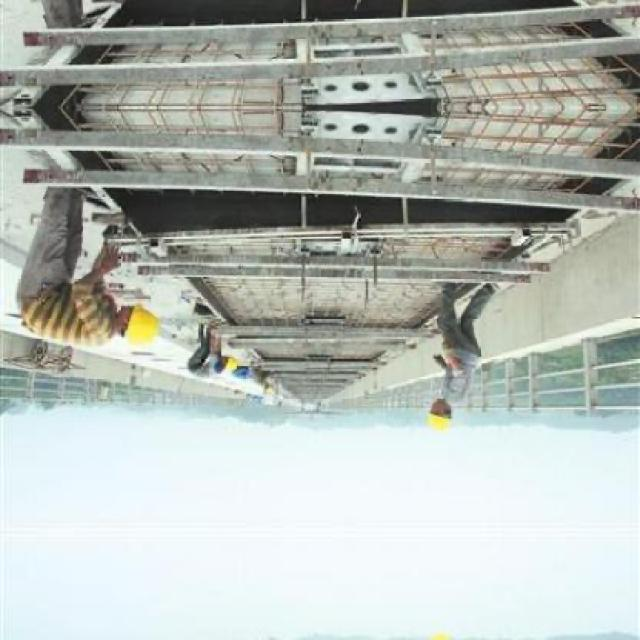con casco: (106, 311, 184, 351), (420, 394, 481, 440)
